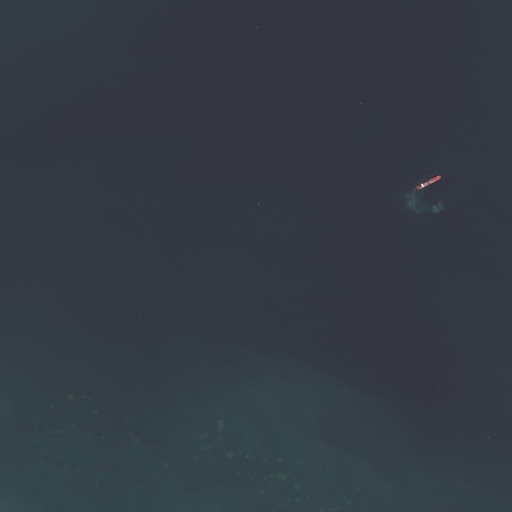ship: (413, 172, 444, 194)
